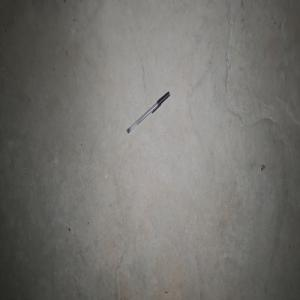Pen: (126, 91, 169, 133)
